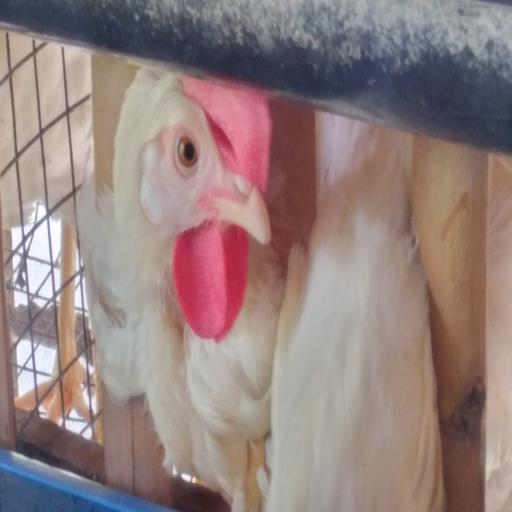healthy: (140, 75, 266, 340)
